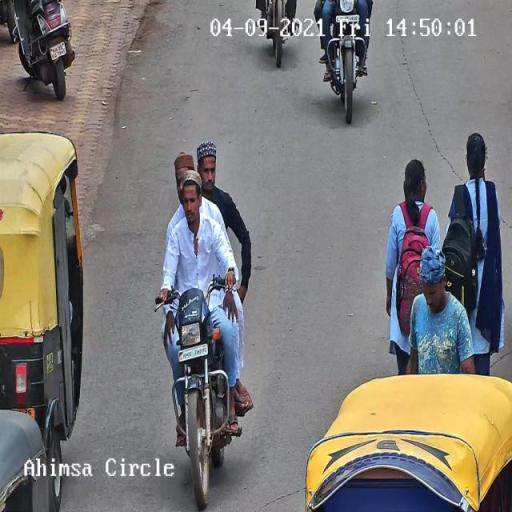tripple riding: (154, 137, 252, 287)
